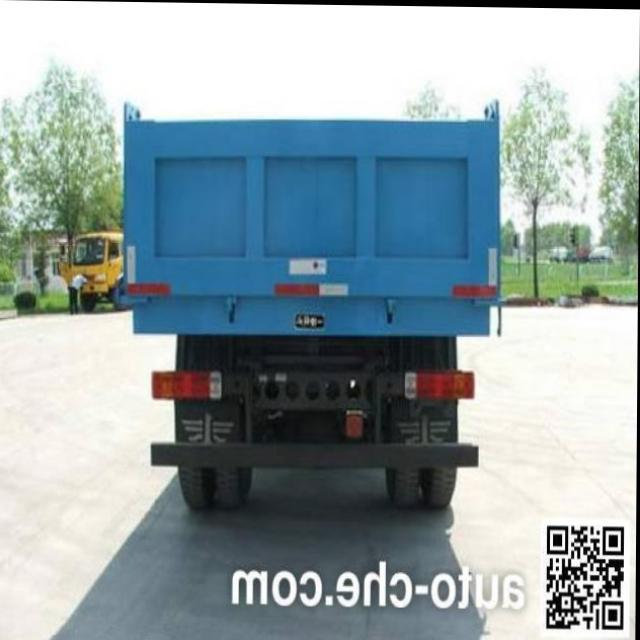uncovered: (110, 65, 506, 441)
